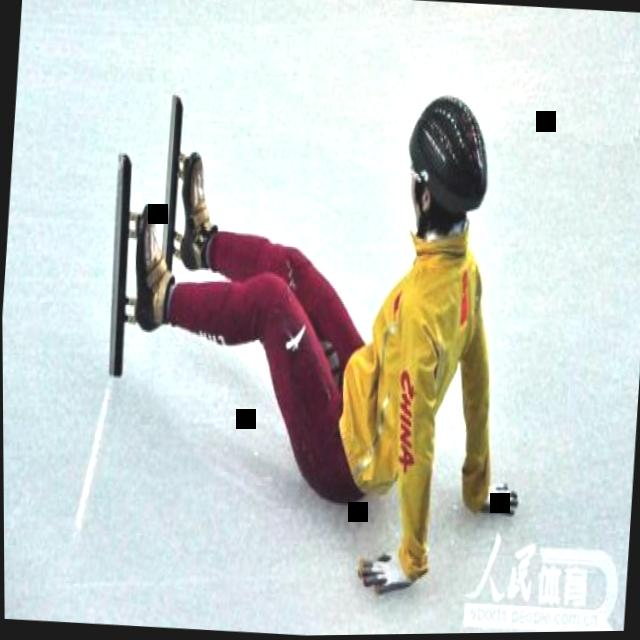Fall-Detected: (104, 85, 535, 598)
